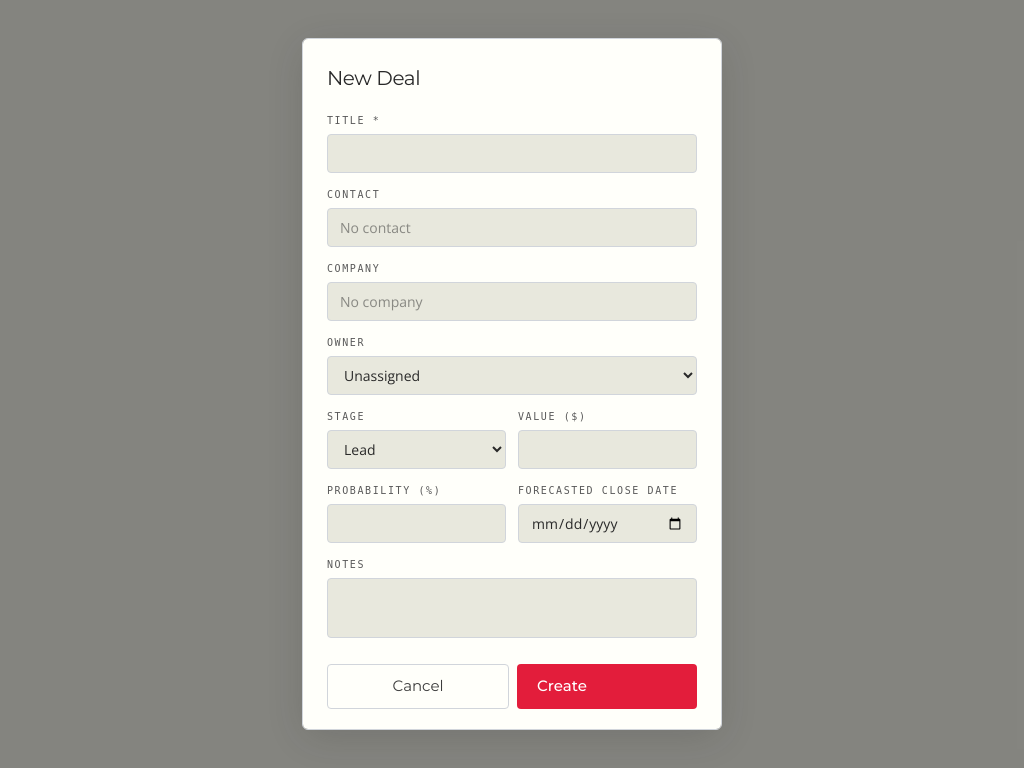
Test case: DealForm — company labelling › marks an archived company in the picker
Click the dropdown labelled "Company".
click(512, 302)  # box [327,282,697,321]
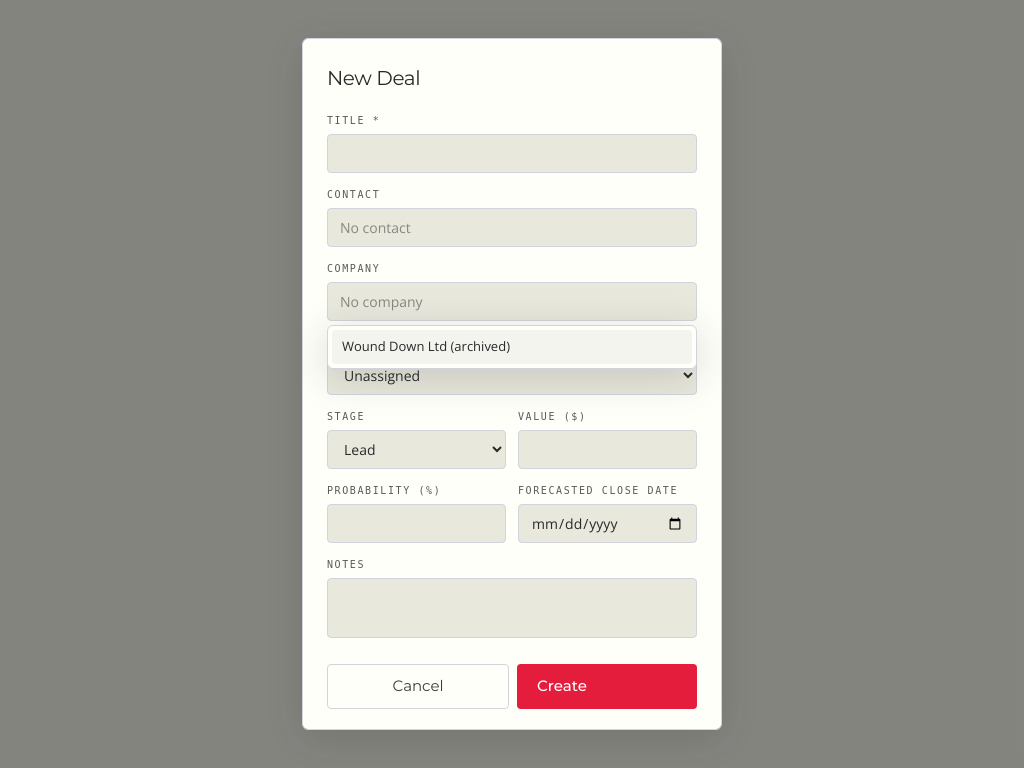
Expected: the option "Wound Down Ltd (archived)" is shown, [332,330,692,364]
